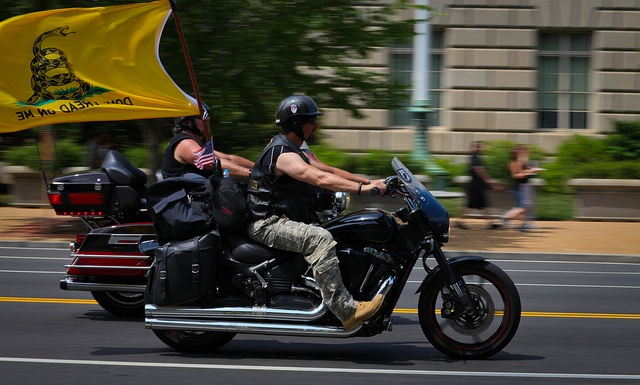non-vehicle: (142, 155, 521, 360), (46, 149, 351, 314)
